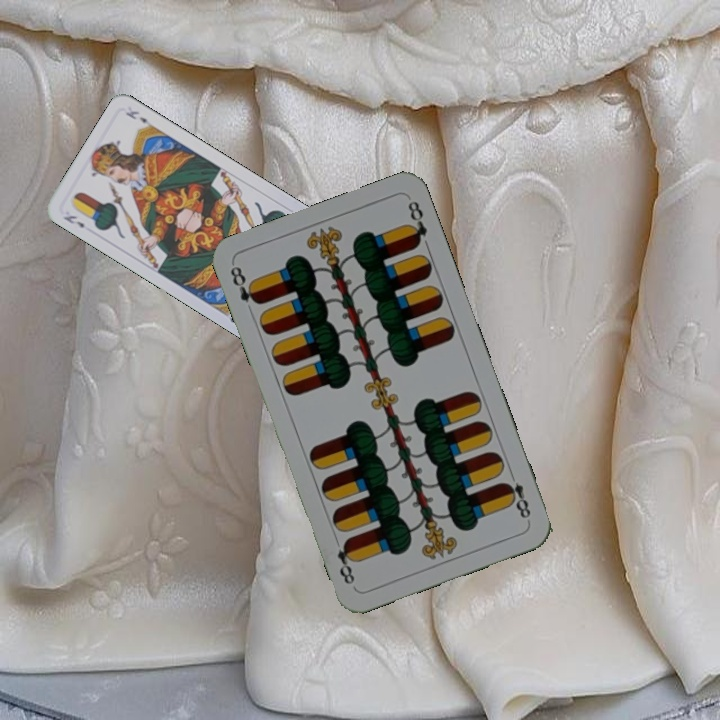E8: (499, 467, 533, 521), (226, 262, 263, 308)
EK: (59, 211, 87, 231)
